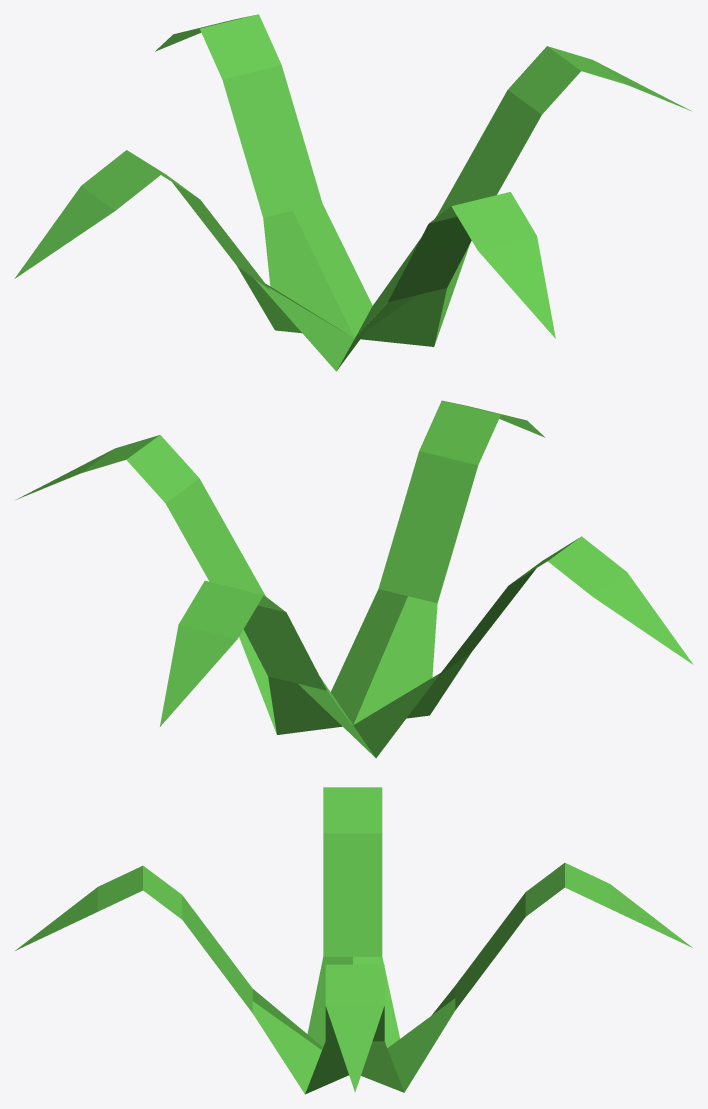
The model's file is Grass.glb.
The picture shows the model from 3 angles, top to bottom: view 1: azimuth 30°, elevation 25°; view 2: azimuth 150°, elevation 25°; view 3: azimuth 270°, elevation 25°; orthographic projection. The views are drawn at different scales.
Parts seen in each view (by area): view 1: Plane.002; view 2: Plane.002; view 3: Plane.002.
Boxes of the visible parts, x1,y1,x2,y2 form: Plane.002: (14, 14, 691, 371); Plane.002: (16, 400, 693, 758); Plane.002: (15, 787, 692, 1094).
Bounding box in the file's own units: 1.69 × 0.5422 × 1.7.
